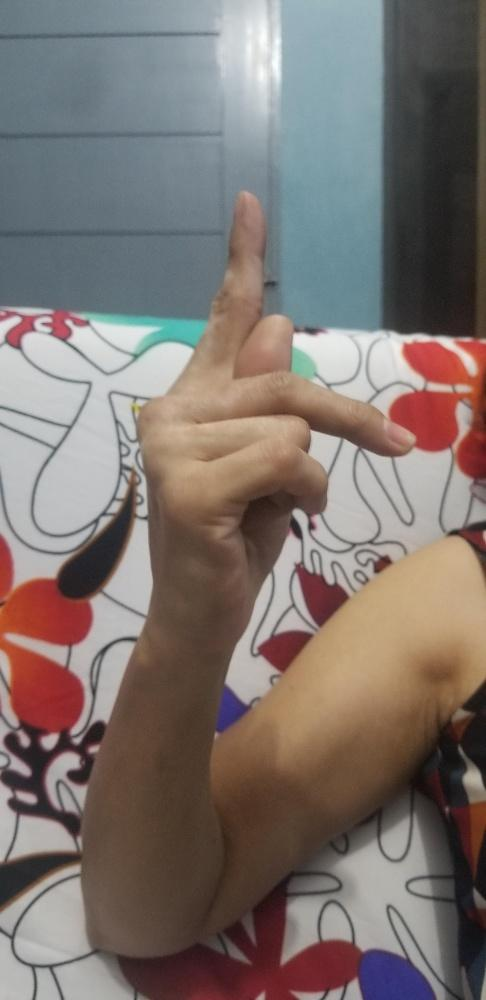k: (132, 186, 418, 641)
